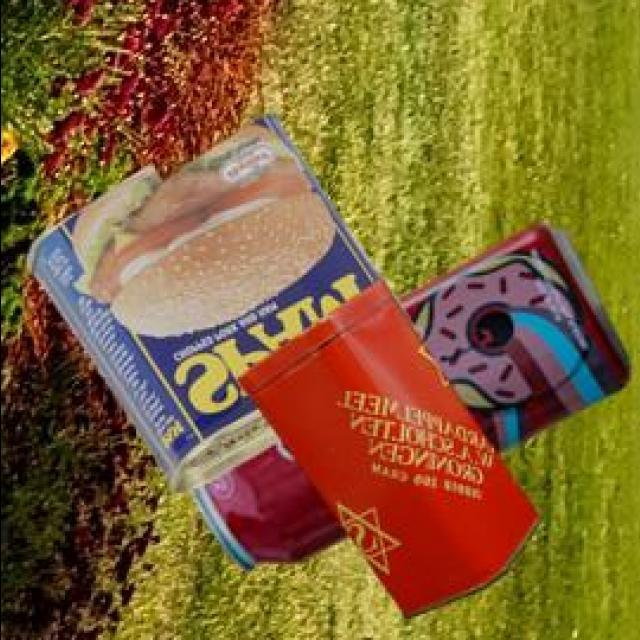logam: (193, 226, 634, 572), (30, 117, 385, 497), (241, 283, 544, 622)
